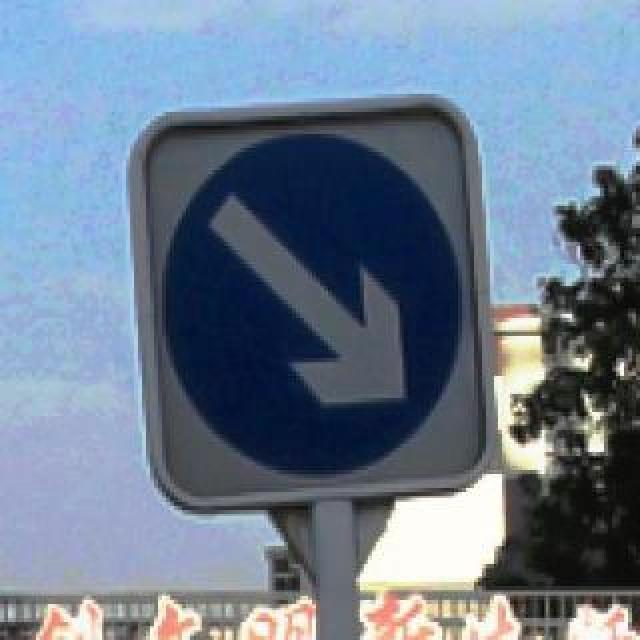keep right: (150, 126, 462, 480)
